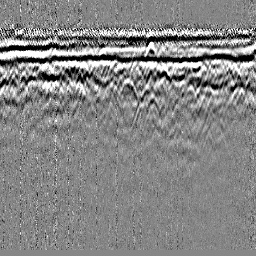cavity: (118, 77, 139, 102)
